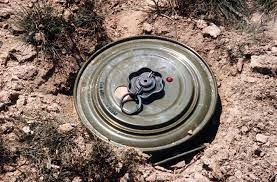car: (63, 20, 237, 180)
